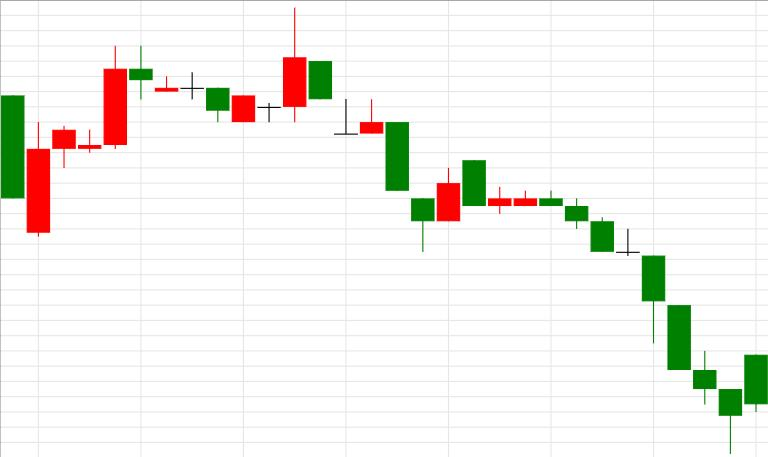hammer_rise: (539, 191, 742, 455), (309, 62, 434, 252)
